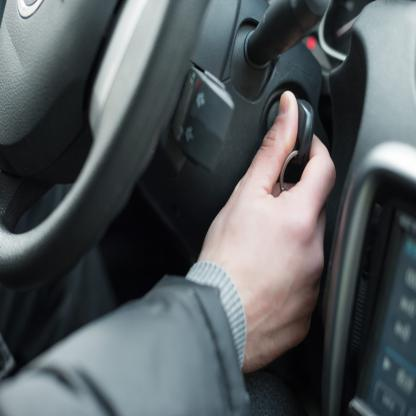keys: (262, 84, 318, 186)
